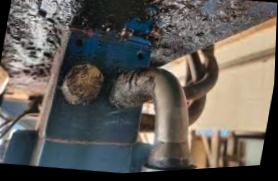leak: (60, 26, 120, 111)
